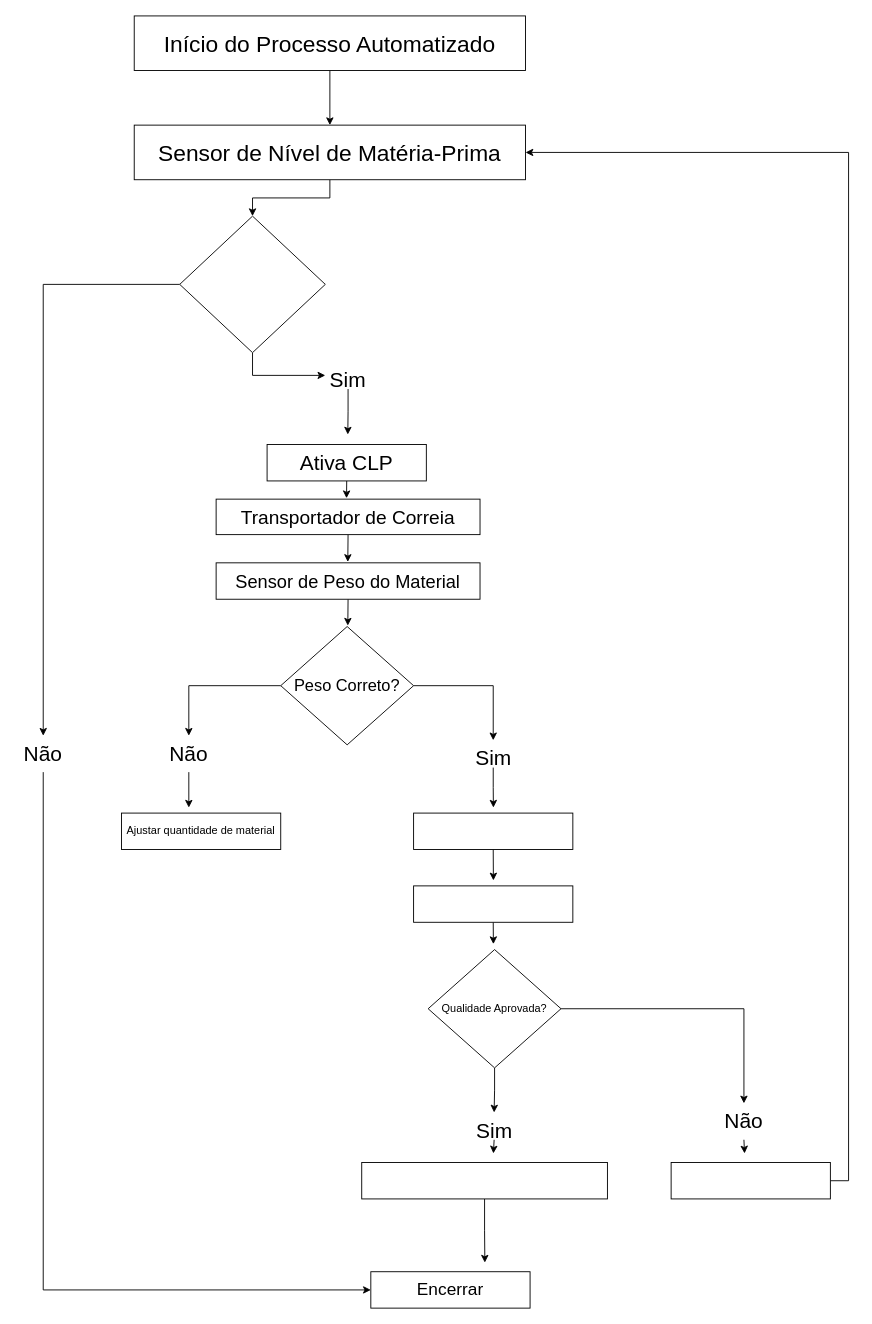
Image size: 872x1324. Some labels were removed from this diagram. The centre of each missing label's shape, as x and y in pixels:
Controle de Qualidade: the point at 493,903
Enviar para Misturador: the point at 493,830
Finalizar Processo e Preparar para Envio: the point at 484,1180
Rejeitar e Recomeçar: the point at 750,1180
Verifica Nível Adequado?: the point at 252,284
